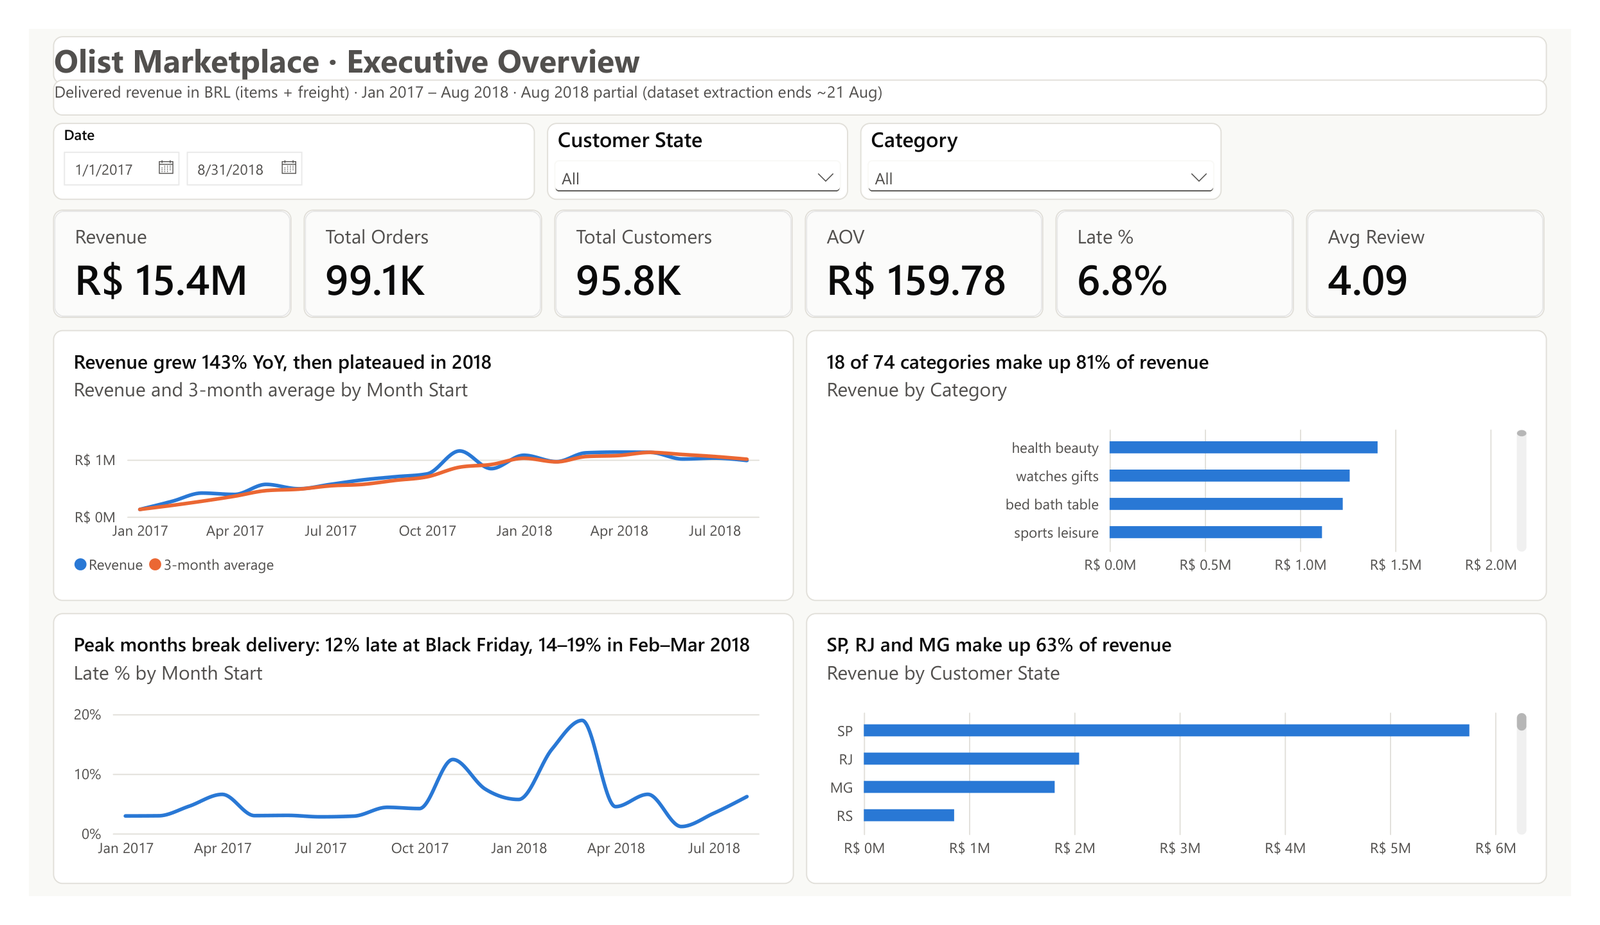

Layout of this report page (visuals, bound fields, positions):
{"tool":"powerbi","page":{"name":"Executive Overview","canvas":[1280,720],"ordinal":0},"visuals":[{"type":"textbox","box":[20,6,1240,40],"z":0},{"type":"textbox","box":[20,42,1240,30],"z":1},{"type":"slicer","fields":{"Values":["Date.Date"]},"box":[20,78,400,64],"z":2},{"type":"slicer","fields":{"Values":["Orders.Customer State"]},"box":[430,78,250,64],"z":3},{"type":"slicer","fields":{"Values":["Products.Category"]},"box":[690,78,300,64],"z":4},{"type":"cardVisual","fields":{"Data":["Orders.Revenue KPI"]},"box":[20,150,198,90],"z":5},{"type":"cardVisual","fields":{"Data":["Orders.Total Orders KPI"]},"box":[228,150,198,90],"z":6},{"type":"cardVisual","fields":{"Data":["Orders.Total Customers KPI"]},"box":[436,150,198,90],"z":7},{"type":"cardVisual","fields":{"Data":["Orders.AOV"]},"box":[644,150,198,90],"z":8},{"type":"cardVisual","fields":{"Data":["Orders.Late %"]},"box":[852,150,198,90],"z":9},{"type":"cardVisual","fields":{"Data":["Orders.Avg Review"]},"box":[1060,150,198,90],"z":10},{"type":"lineChart","title":"Revenue grew 143% YoY, then plateaued in 2018","fields":{"Category":["Date.Month Start"],"Y":["Orders.Revenue","Orders.Revenue 3M Avg"]},"box":[20,250,615,225],"z":11},{"type":"clusteredBarChart","title":"18 of 74 categories make up 81% of revenue","fields":{"Category":["Products.Category"],"Y":["Orders.Revenue"]},"box":[645,250,615,225],"z":12},{"type":"lineChart","title":"Peak months break delivery: 12% late at Black Friday, 14–19% in Feb–Mar 2018","fields":{"Category":["Date.Month Start"],"Y":["Orders.Late %"]},"box":[20,485,615,225],"z":13},{"type":"clusteredBarChart","title":"SP, RJ and MG make up 63% of revenue","fields":{"Category":["Orders.Customer State"],"Y":["Orders.Revenue"]},"box":[645,485,615,225],"z":14}]}

Visuals, with their boxes in screenshot pixels (x1, y1, x2, y2), scaled from the page's 1280x720 canvas onto the 1600x925 screenshot:
textbox: crop(25, 8, 1575, 59)
textbox: crop(25, 54, 1575, 92)
slicer - Date.Date: crop(25, 100, 525, 182)
slicer - Orders.Customer State: crop(538, 100, 850, 182)
slicer - Products.Category: crop(862, 100, 1238, 182)
cardVisual - Orders.Revenue KPI: crop(25, 193, 272, 308)
cardVisual - Orders.Total Orders KPI: crop(285, 193, 532, 308)
cardVisual - Orders.Total Customers KPI: crop(545, 193, 792, 308)
cardVisual - Orders.AOV: crop(805, 193, 1052, 308)
cardVisual - Orders.Late %: crop(1065, 193, 1312, 308)
cardVisual - Orders.Avg Review: crop(1325, 193, 1572, 308)
"Revenue grew 143% YoY, then plateaued in 2018" lineChart: crop(25, 321, 794, 610)
"18 of 74 categories make up 81% of revenue" clusteredBarChart: crop(806, 321, 1575, 610)
"Peak months break delivery: 12% late at Black Friday, 14–19% in Feb–Mar 2018" lineChart: crop(25, 623, 794, 912)
"SP, RJ and MG make up 63% of revenue" clusteredBarChart: crop(806, 623, 1575, 912)
